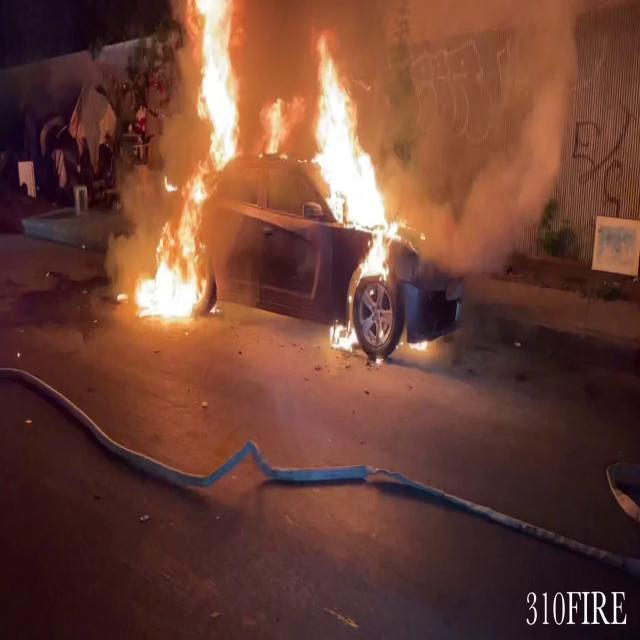Fire: (127, 0, 282, 325), (299, 36, 413, 358)
Smoke: (440, 36, 590, 268)
